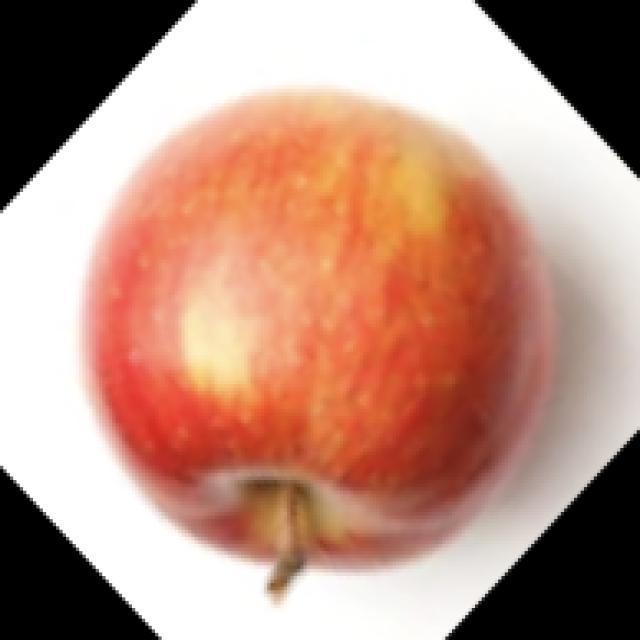Apple: (82, 85, 557, 594)
